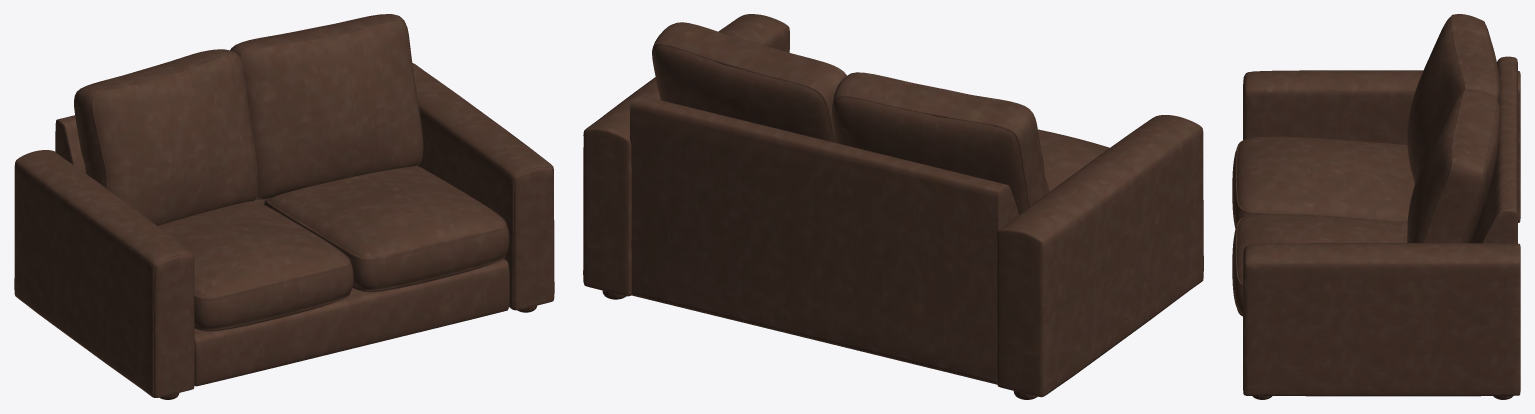
The model's file is B07QCMBHVV.glb.
The picture shows the model from 3 angles, left to right: view 1: azimuth 30°, elevation 25°; view 2: azimuth 150°, elevation 25°; view 3: azimuth 270°, elevation 25°; orthographic projection. The views are drawn at different scales.
Visible parts, largest first — view 1: RootNode; view 2: RootNode; view 3: RootNode.
Boxes of the visible parts, bbox=[...] form: RootNode: bbox=[14, 14, 554, 399]; RootNode: bbox=[583, 14, 1203, 399]; RootNode: bbox=[1232, 14, 1520, 399].
Size of the model in its own units: 1.62 by 0.8731 by 1.02.
Materials: 1 (1 with a texture image).
